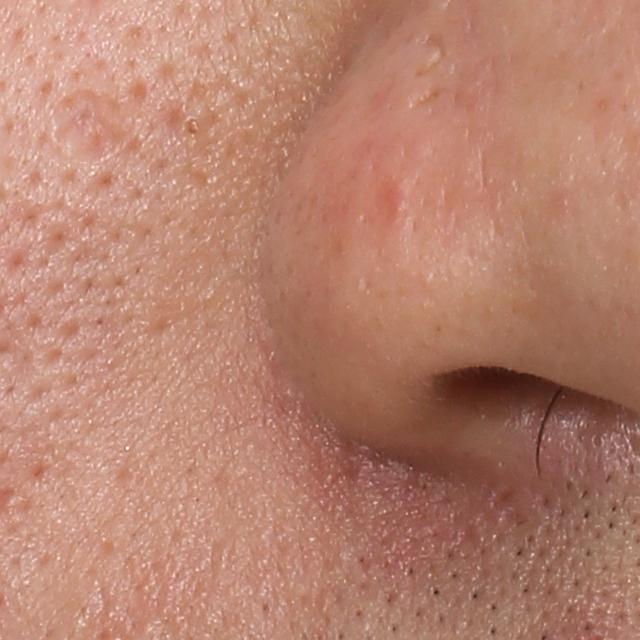atrophic_scar: (50, 86, 137, 171), (415, 28, 449, 78), (405, 81, 451, 114)
comedo: (178, 112, 206, 142)
